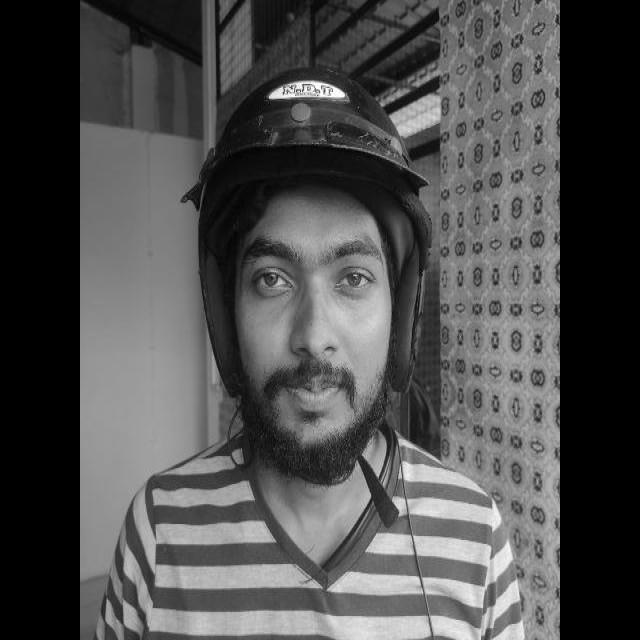5_casco: (180, 65, 436, 439)
